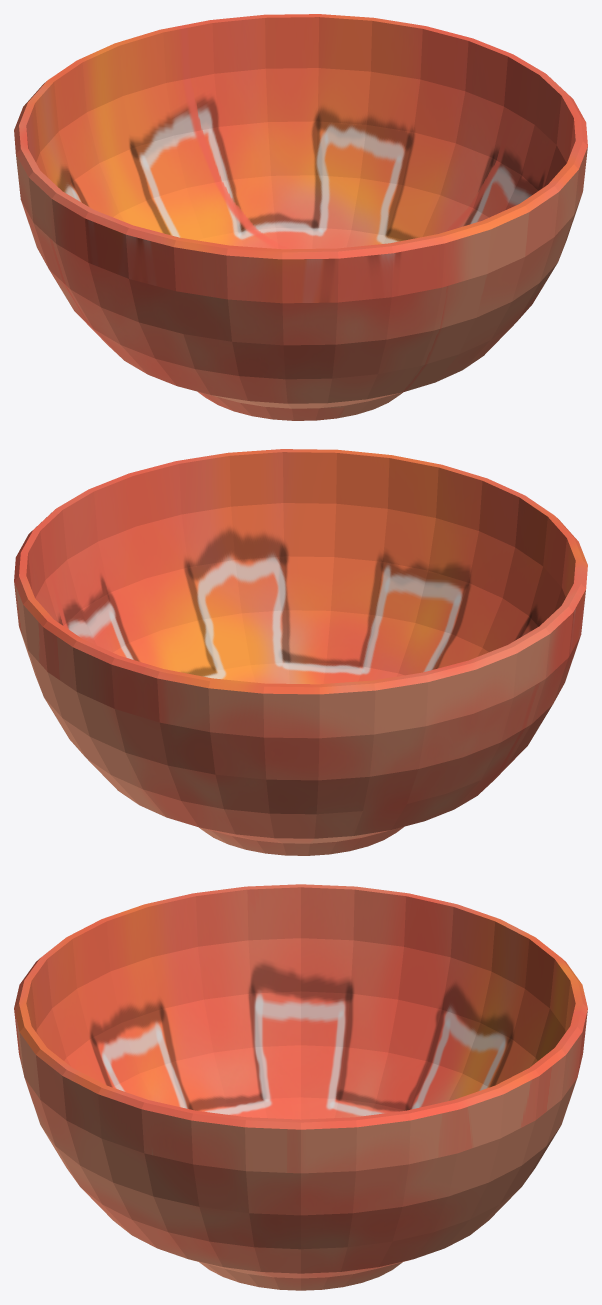
Rendered from pinink.glb.
3 views of the same model, one above another, from view 1: azimuth 30°, elevation 25°; view 2: azimuth 150°, elevation 25°; view 3: azimuth 270°, elevation 25° (orthographic).
Parts seen in each view (by area): view 1: Sphere; view 2: Sphere; view 3: Sphere.
Part boxes in pixels (x1=…): Sphere: x1=14, y1=14, x2=587, y2=420; Sphere: x1=14, y1=449, x2=587, y2=855; Sphere: x1=14, y1=884, x2=587, y2=1290.
Bounding box in the file's own units: 2 × 0.9239 × 2.
Materials: 1 (1 with a texture image).
